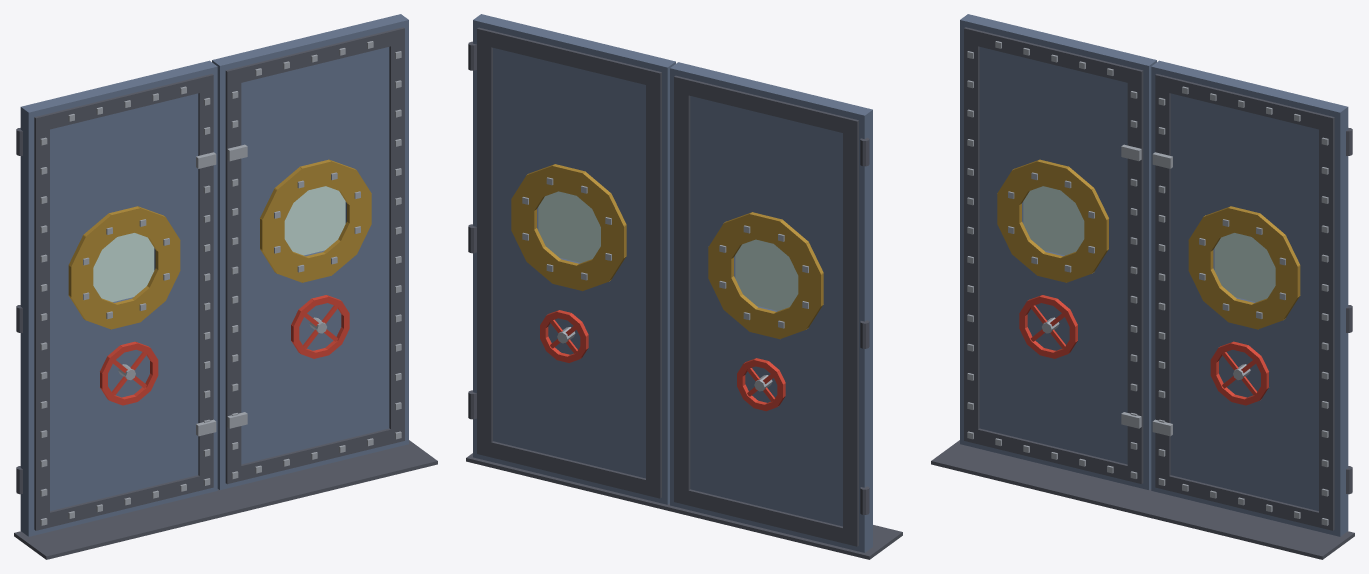
Rendered from CatCafe_Door_PortholeHatch_Front.fbx.
3 renders of one model, left to right at view 1: azimuth 30°, elevation 25°; view 2: azimuth 150°, elevation 25°; view 3: azimuth 330°, elevation 25°, orthographic. The views are drawn at different scales.
Visible parts, largest first — view 1: CatCafe_Door_PortholeHatch_Front_LeafR, CatCafe_Door_PortholeHatch_Front_LeafL, CatCafe_Door_PortholeHatch_Front, CatCafe_Door_PortholeHatch_Front_LeafL_Glass, CatCafe_Door_PortholeHatch_Front_LeafR_Glass; view 2: CatCafe_Door_PortholeHatch_Front_LeafR, CatCafe_Door_PortholeHatch_Front_LeafL, CatCafe_Door_PortholeHatch_Front_LeafR_Glass, CatCafe_Door_PortholeHatch_Front_LeafL_Glass, CatCafe_Door_PortholeHatch_Front; view 3: CatCafe_Door_PortholeHatch_Front_LeafL, CatCafe_Door_PortholeHatch_Front_LeafR, CatCafe_Door_PortholeHatch_Front, CatCafe_Door_PortholeHatch_Front_LeafL_Glass, CatCafe_Door_PortholeHatch_Front_LeafR_Glass.
Boxes of the visible parts, x1,y1,x2,y2 form: CatCafe_Door_PortholeHatch_Front_LeafR: [16, 60, 217, 536]; CatCafe_Door_PortholeHatch_Front_LeafL: [212, 14, 408, 489]; CatCafe_Door_PortholeHatch_Front: [14, 440, 437, 559]; CatCafe_Door_PortholeHatch_Front_LeafL_Glass: [284, 186, 345, 255]; CatCafe_Door_PortholeHatch_Front_LeafR_Glass: [93, 233, 154, 301]; CatCafe_Door_PortholeHatch_Front_LeafR: [670, 62, 872, 552]; CatCafe_Door_PortholeHatch_Front_LeafL: [468, 14, 675, 504]; CatCafe_Door_PortholeHatch_Front_LeafR_Glass: [735, 239, 798, 310]; CatCafe_Door_PortholeHatch_Front_LeafL_Glass: [538, 191, 600, 262]; CatCafe_Door_PortholeHatch_Front: [466, 453, 902, 559]; CatCafe_Door_PortholeHatch_Front_LeafL: [1151, 60, 1352, 536]; CatCafe_Door_PortholeHatch_Front_LeafR: [960, 14, 1156, 489]; CatCafe_Door_PortholeHatch_Front: [931, 440, 1354, 559]; CatCafe_Door_PortholeHatch_Front_LeafL_Glass: [1214, 233, 1275, 301]; CatCafe_Door_PortholeHatch_Front_LeafR_Glass: [1023, 186, 1084, 255].
Bounding box in the file's own units: 7 × 7.33 × 1.21.
1 material, 1 textured.
